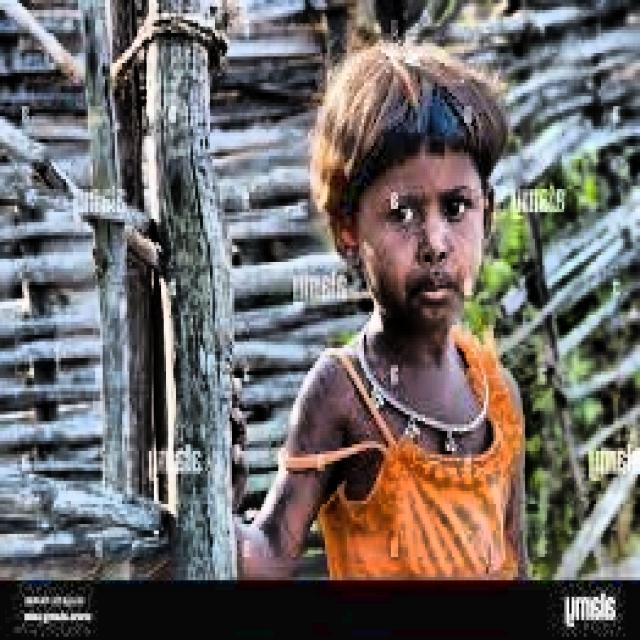Human: (230, 59, 578, 593)
